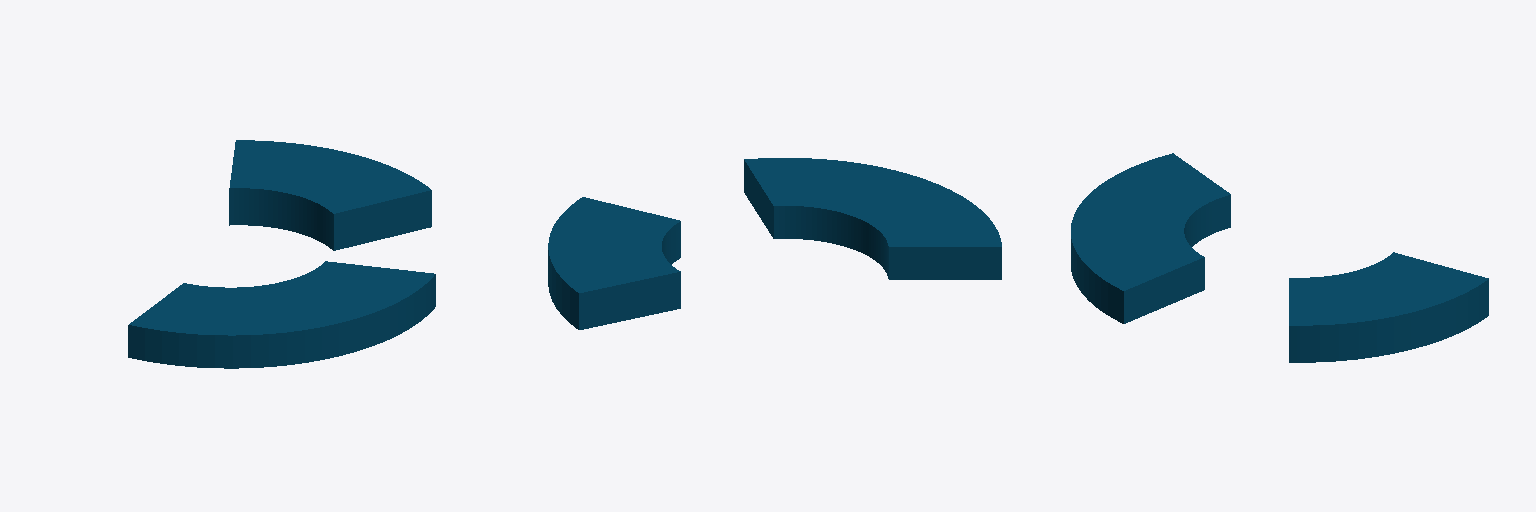
Rendered from platforms-4-2platforms.obj.
3 renders of one model, left to right at view 1: azimuth 30°, elevation 25°; view 2: azimuth 150°, elevation 25°; view 3: azimuth 270°, elevation 25°, orthographic.
Parts seen in each view (by area): view 1: Curve.002, Curve; view 2: Curve.002, Curve; view 3: Curve.002, Curve.
Boxes of the visible parts, x1,y1,x2,y2 form: Curve.002: [128, 261, 435, 368]; Curve: [229, 140, 431, 250]; Curve.002: [744, 158, 1001, 279]; Curve: [548, 197, 680, 329]; Curve.002: [1071, 153, 1230, 323]; Curve: [1289, 252, 1488, 362].
Size of the model in its own units: 0.1577 by 0.0154 by 0.158.